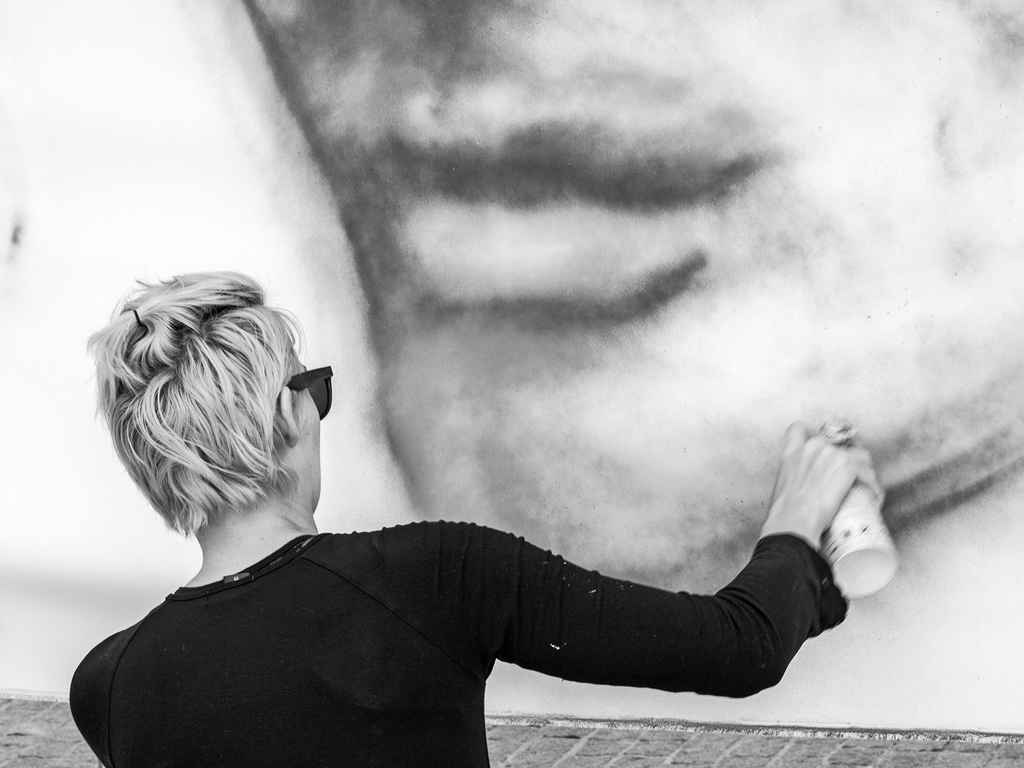Human_hand: (737, 437, 876, 605)
